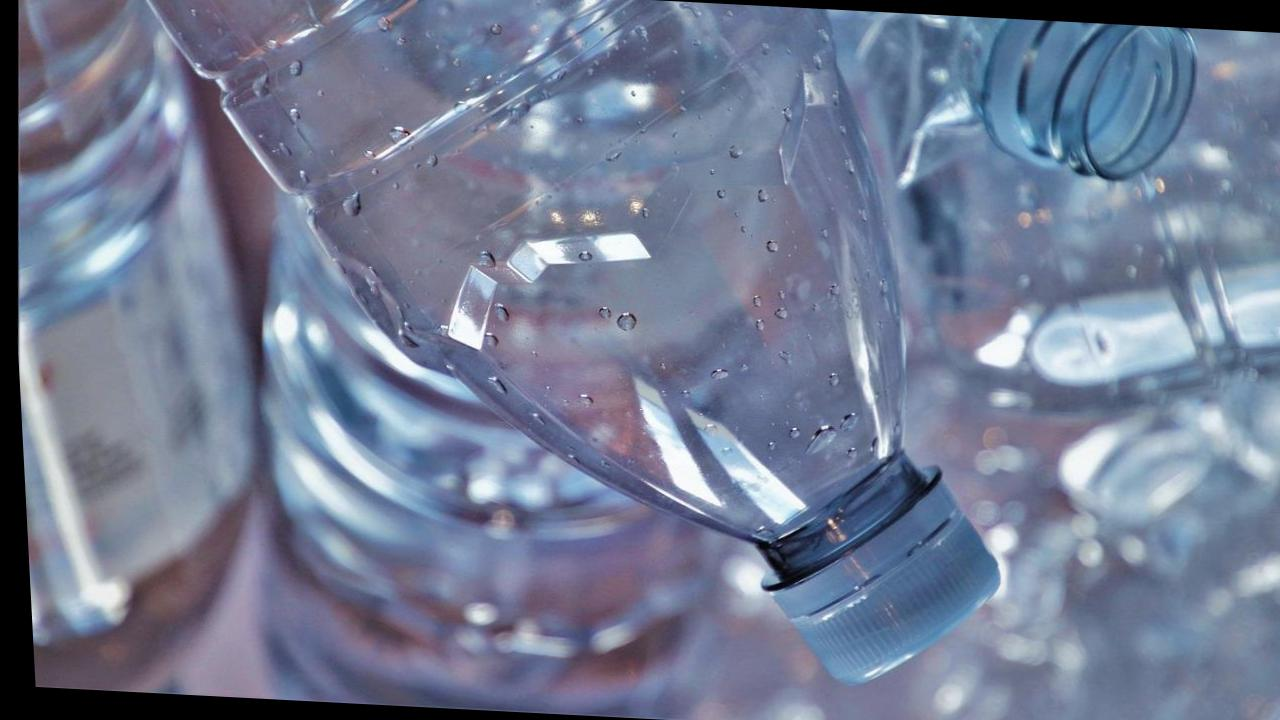plastic: (155, 0, 997, 706), (831, 14, 1279, 719), (19, 0, 273, 693)
